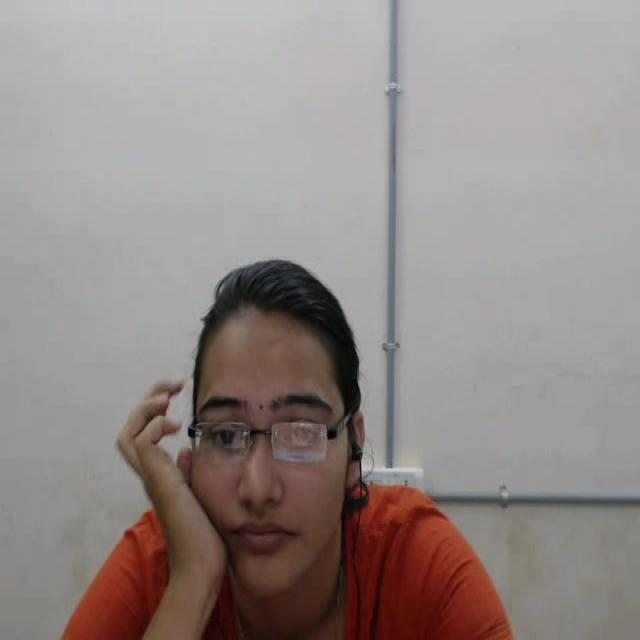Bored: (107, 220, 384, 640)
